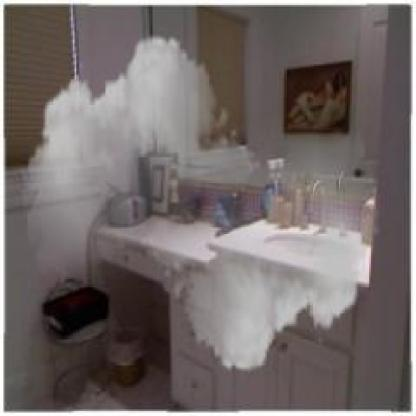Smoke: (22, 24, 378, 383)
